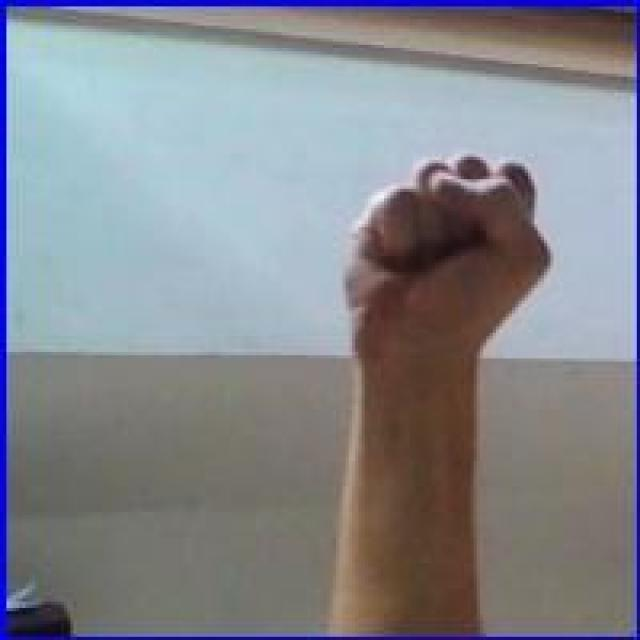S: (328, 149, 555, 363)
